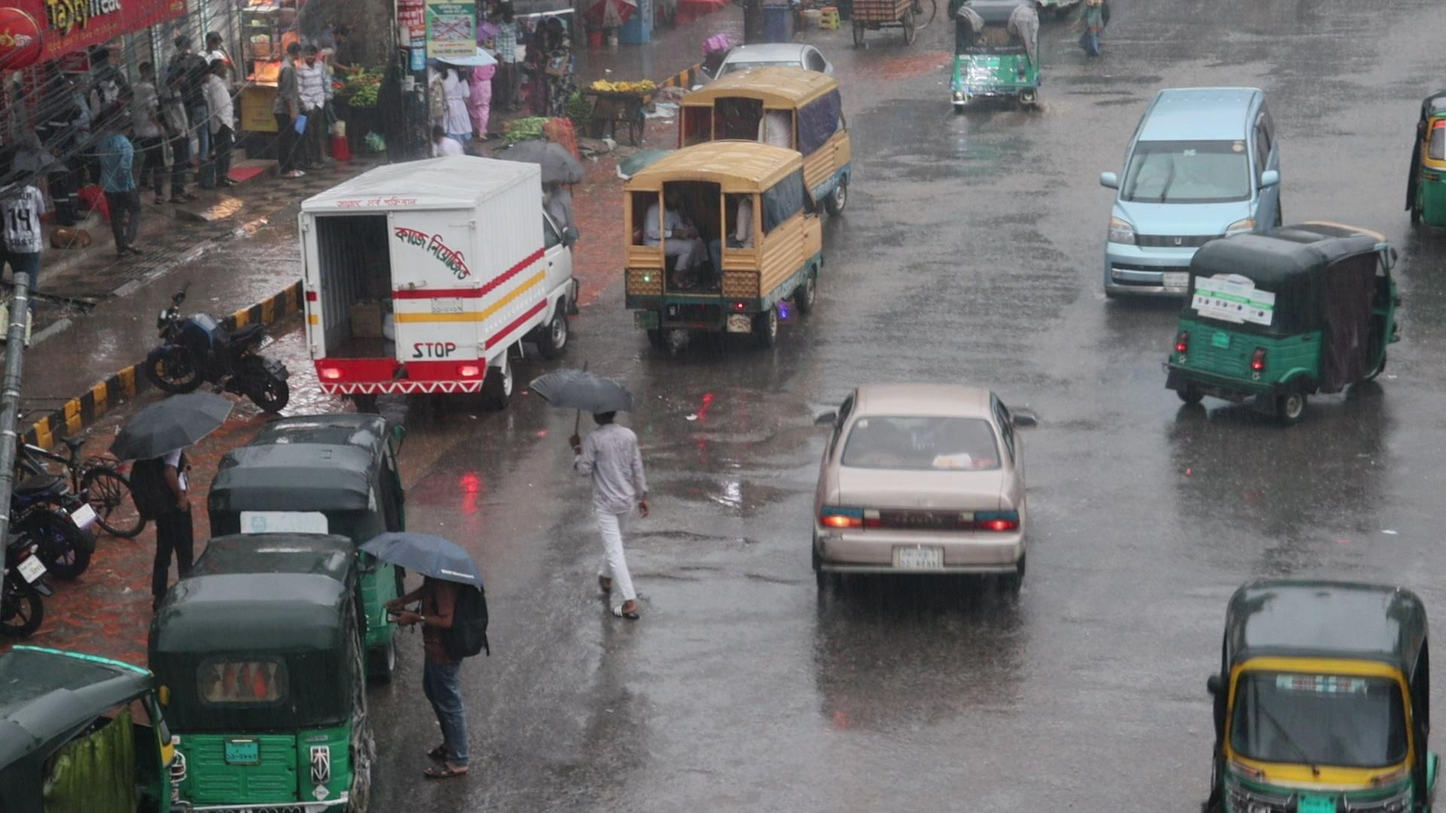Car: (805, 381, 1038, 621), (1096, 81, 1282, 311)
Truck: (615, 124, 828, 353)
